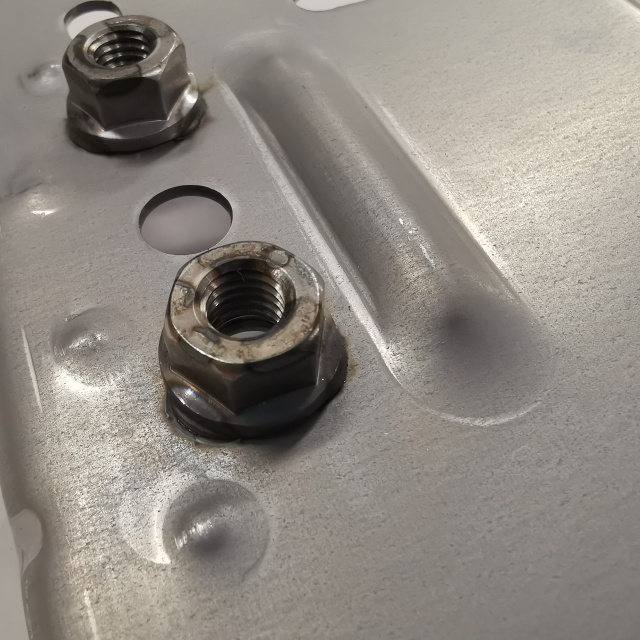dog: (154, 236, 353, 445), (58, 12, 215, 161)
